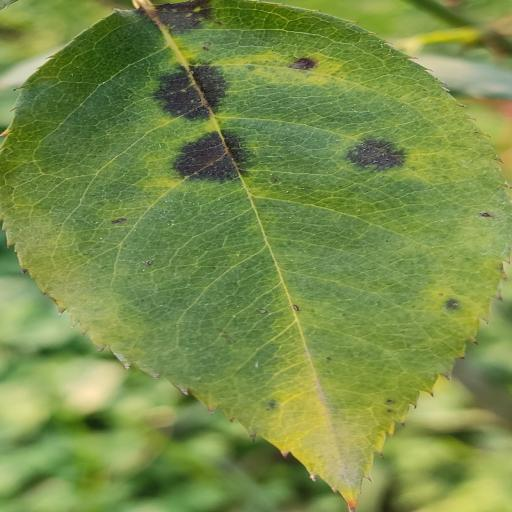black_spot: (1, 0, 512, 507)
